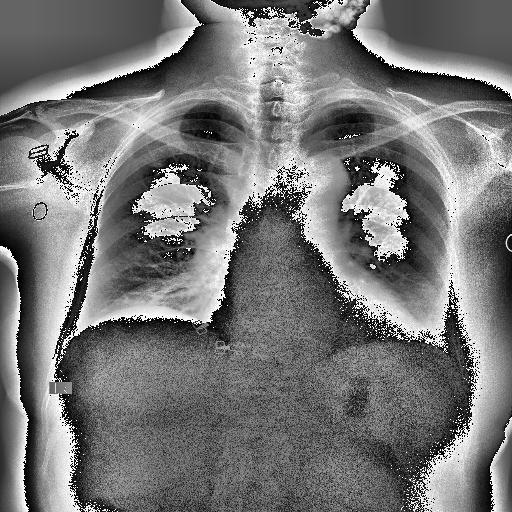0- Aortic enlargement: (286, 150, 350, 218), (284, 154, 352, 211), (296, 152, 352, 205)
13- Pulmonary fibrosis: (141, 156, 166, 168), (150, 150, 160, 168)
3- Cardiomegaly: (202, 288, 434, 347), (202, 303, 428, 355), (199, 304, 432, 342)
